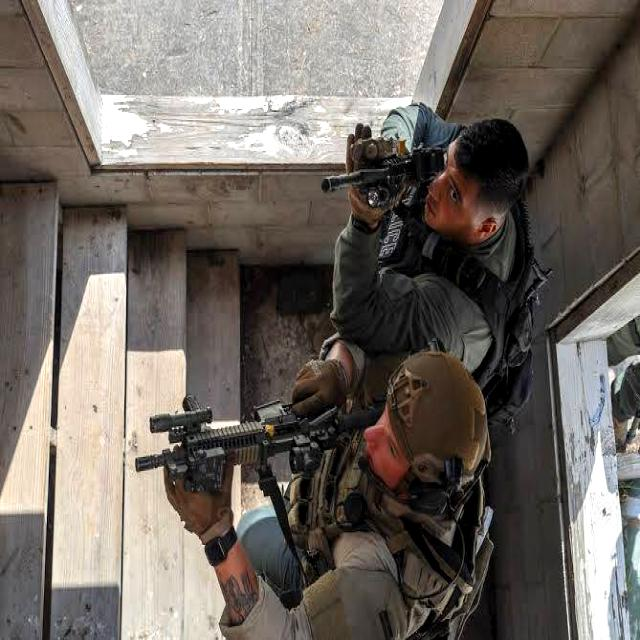m16: (104, 315, 350, 537)
